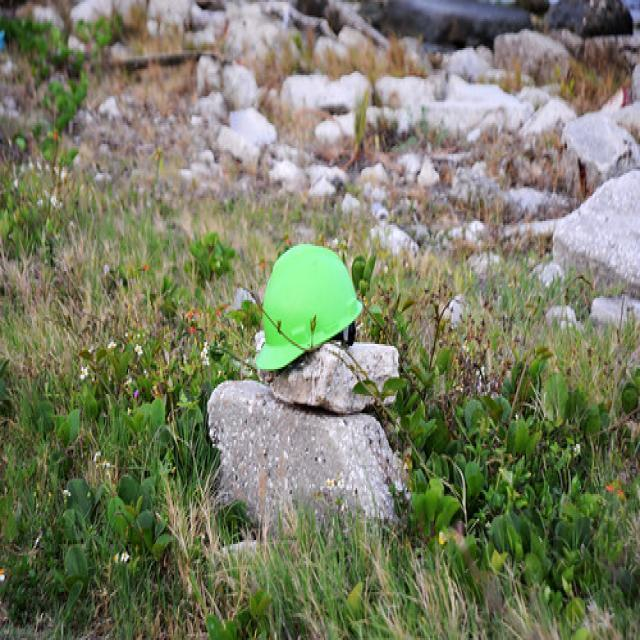helmet: (252, 244, 364, 371)
